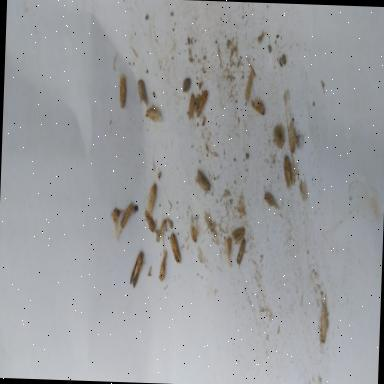pbw: (130, 250, 146, 288), (318, 294, 330, 342), (168, 231, 182, 262), (120, 199, 133, 230), (283, 152, 294, 187), (195, 88, 208, 116), (195, 170, 212, 190), (142, 208, 156, 231), (244, 70, 254, 101), (263, 190, 279, 208), (236, 237, 246, 265), (288, 120, 296, 154), (119, 70, 127, 104), (232, 224, 246, 243), (250, 98, 266, 114), (148, 180, 156, 212), (145, 106, 161, 122), (156, 217, 166, 241), (188, 91, 196, 118), (159, 255, 167, 281), (190, 222, 197, 242)
